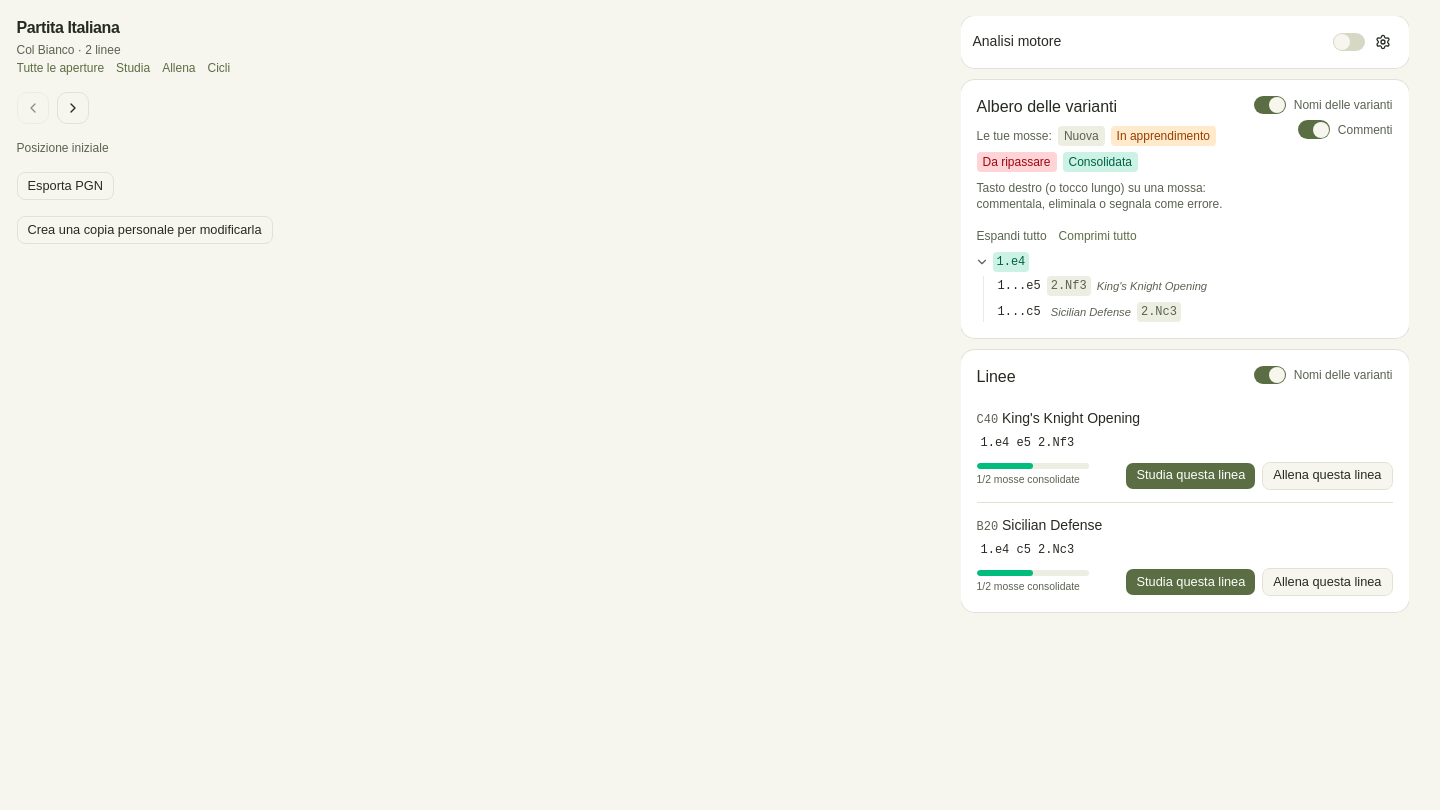
Test case: OpeningLinesPage › copies a catalog repertoire to edit it, then opens the copy in edit mode
The image size is (1440, 810).
Click the button "Crea una copia personale per modificarla" at x=144, y=230, box 16,216 -> 272,244
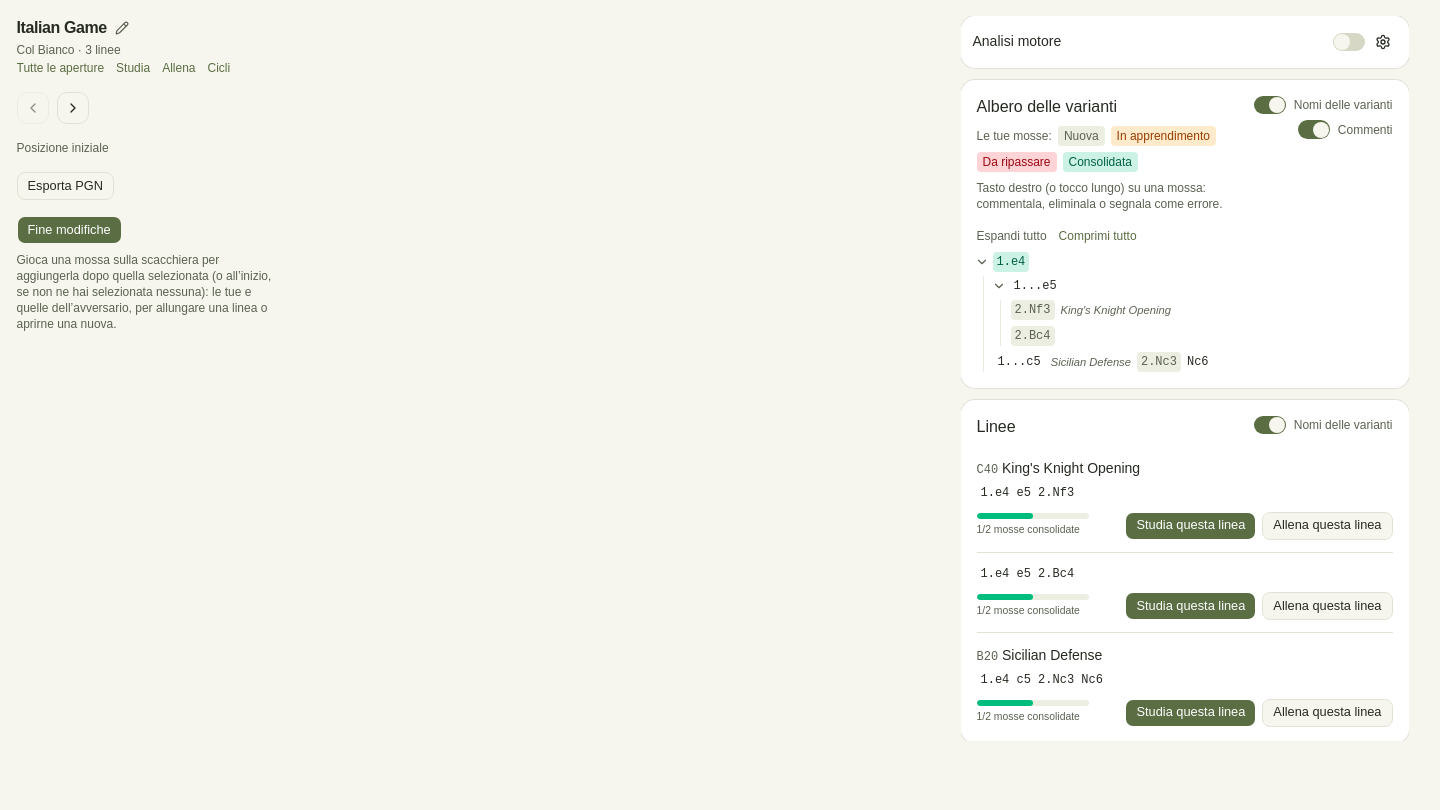
Now the button "Fine modifiche" is shown, box 16,216 -> 122,244
